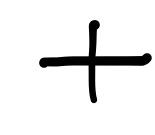plus: (39, 20, 151, 103)
